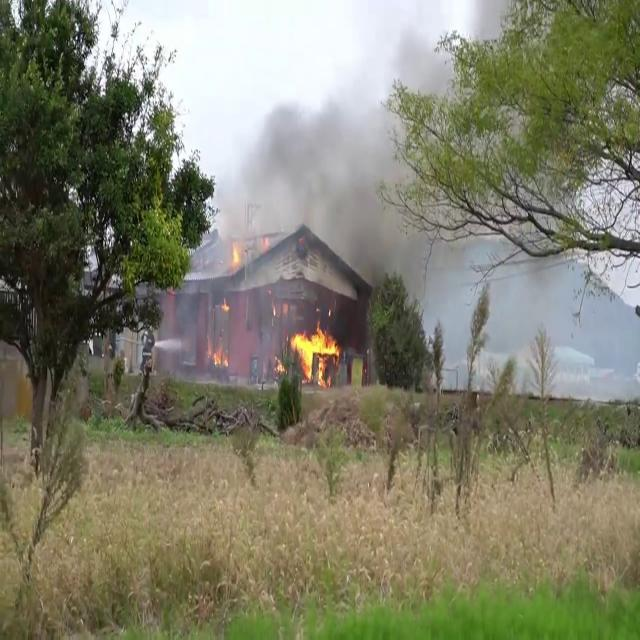Fire: (284, 313, 342, 383)
Smoke: (238, 50, 431, 284)
